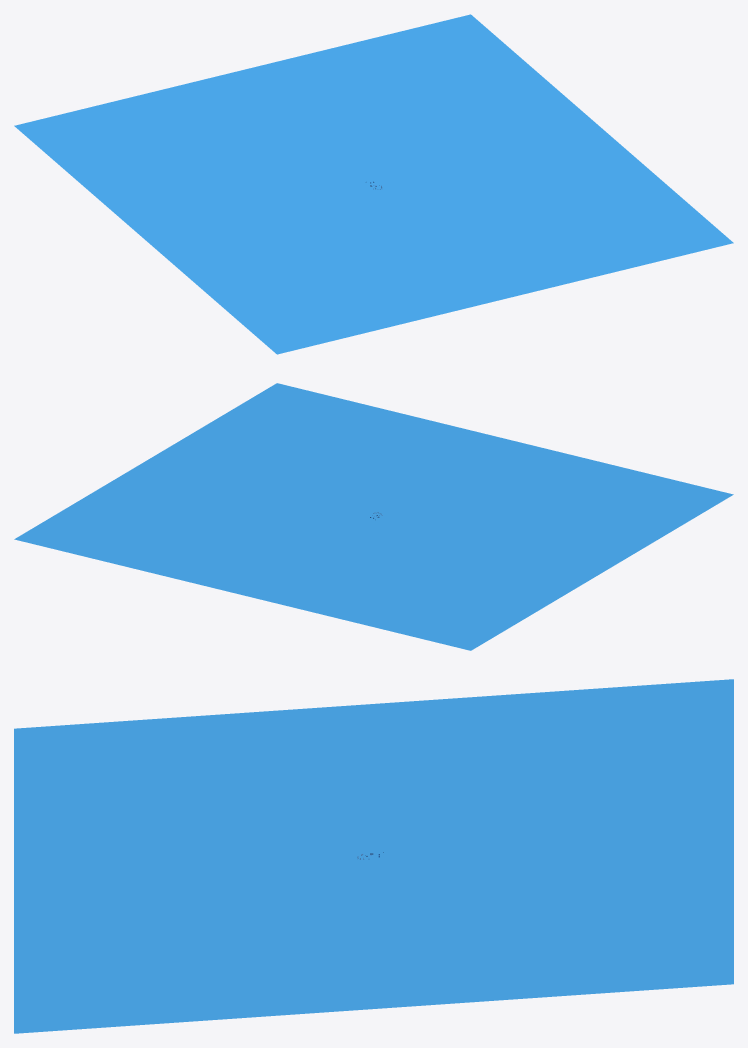
File: Map1.fbx
3 renders of one model, top to bottom at view 1: azimuth 30°, elevation 25°; view 2: azimuth 150°, elevation 25°; view 3: azimuth 270°, elevation 25°, orthographic. The views are drawn at different scales.
Visible parts, largest first — view 1: Fog; view 2: Fog; view 3: Fog.
Boxes of the visible parts, x1,y1,x2,y2 form: Fog: [14, 14, 733, 354]; Fog: [14, 383, 733, 650]; Fog: [14, 679, 733, 1033].
Bounding box in the file's own units: 100000 × 7567 × 99713.
